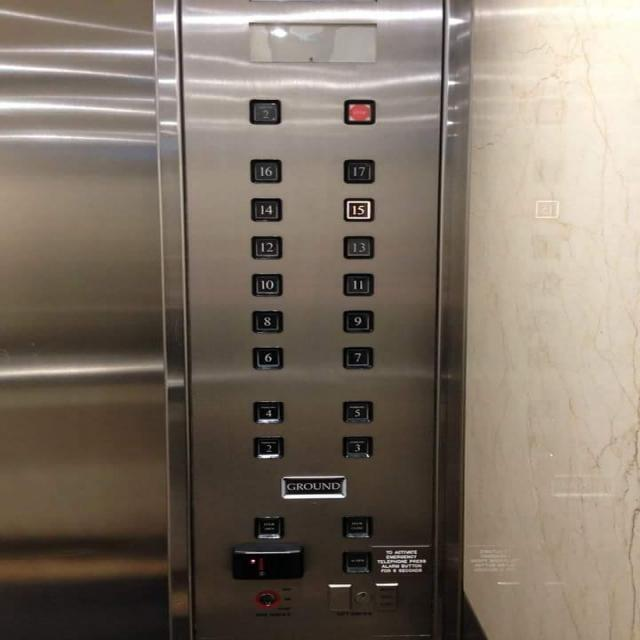10: (250, 272, 282, 297)
11: (342, 271, 374, 296)
12: (250, 234, 282, 258)
13: (342, 235, 373, 259)
14: (249, 197, 282, 221)
15: (343, 197, 373, 221)
16: (249, 158, 282, 184)
17: (342, 159, 375, 183)
2: (247, 98, 283, 126), (250, 434, 284, 458)
3: (341, 434, 374, 458)
4: (250, 399, 284, 424)
5: (341, 399, 374, 424)
6: (250, 346, 282, 369)
7: (342, 346, 374, 368)
8: (250, 309, 282, 333)
9: (342, 310, 374, 334)
text_blur: (338, 514, 372, 538), (250, 514, 284, 538), (338, 548, 372, 572)
text_ground: (279, 474, 348, 498)
text_stop: (342, 98, 376, 125)
